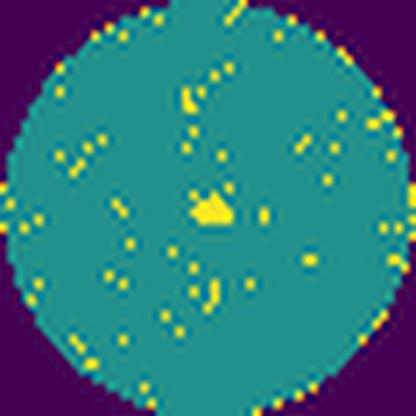Center: (188, 191, 235, 226)
